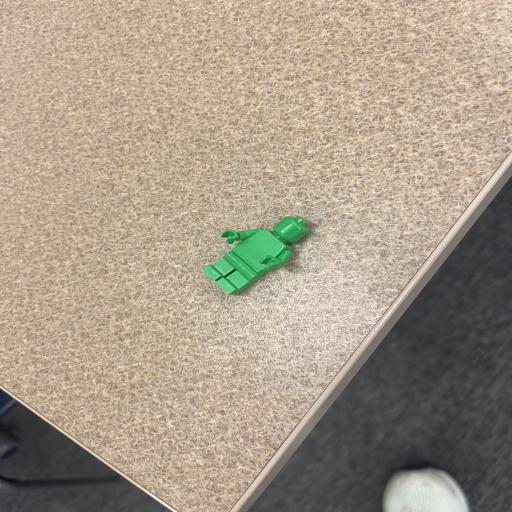Lego-Minifig: (274, 216, 308, 243)
